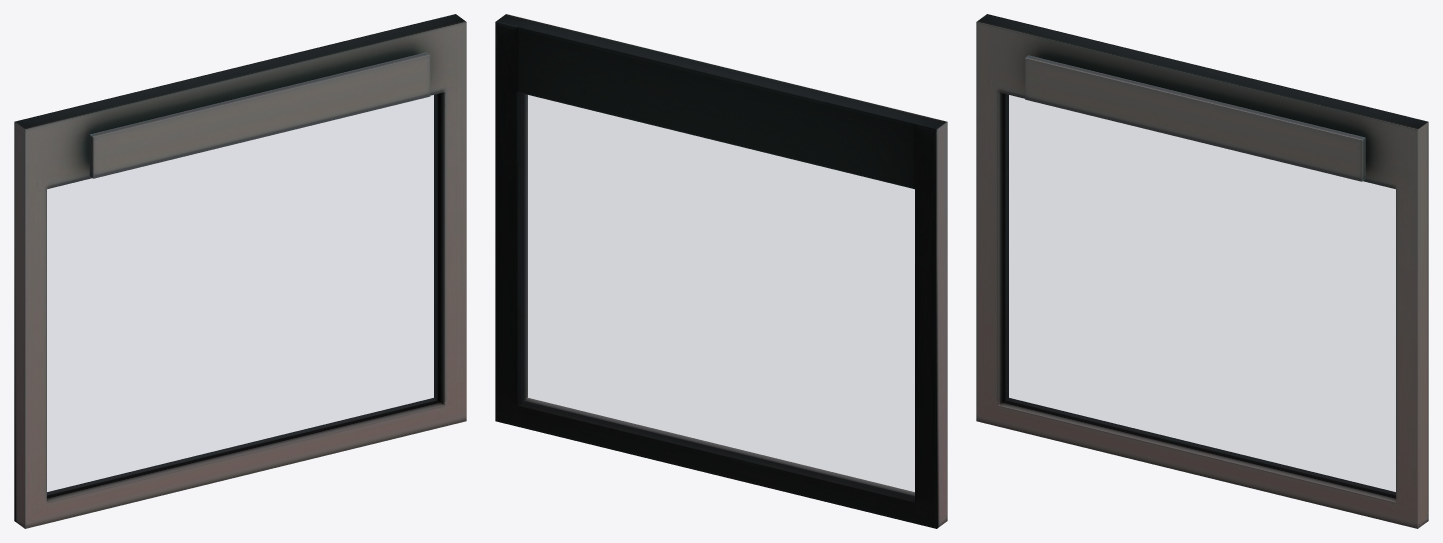
The model's file is ovenDoor.glb.
3 views of the same model, side by side, from view 1: azimuth 30°, elevation 25°; view 2: azimuth 150°, elevation 25°; view 3: azimuth 330°, elevation 25° (orthographic).
Visible parts, largest first — view 1: OvenDoor; view 2: OvenDoor; view 3: OvenDoor.
Boxes of the visible parts, bbox=[...] form: OvenDoor: bbox=[14, 14, 466, 528]; OvenDoor: bbox=[495, 14, 947, 528]; OvenDoor: bbox=[976, 14, 1428, 528].
Size of what is drawn, in the model's own units: 0.7719 by 0.6674 by 0.0625.
2 materials, 1 textured.
